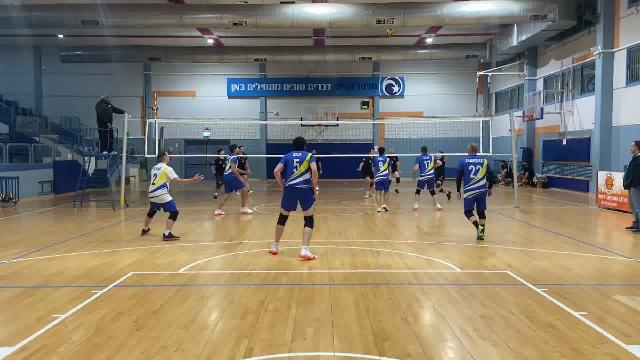ball: (387, 27, 395, 35)
